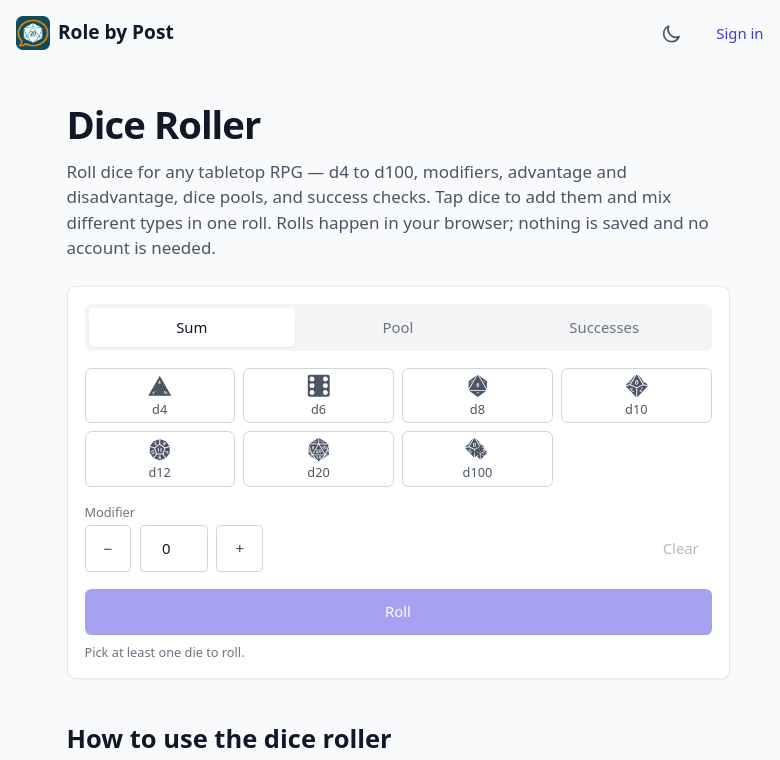
Test case: DiceRollerPage › applies advantage to a single d20 sum roll
This screenshot has width=780, height=760.
Click the button "d20". click: (319, 459)
box: [243,431,394,486]
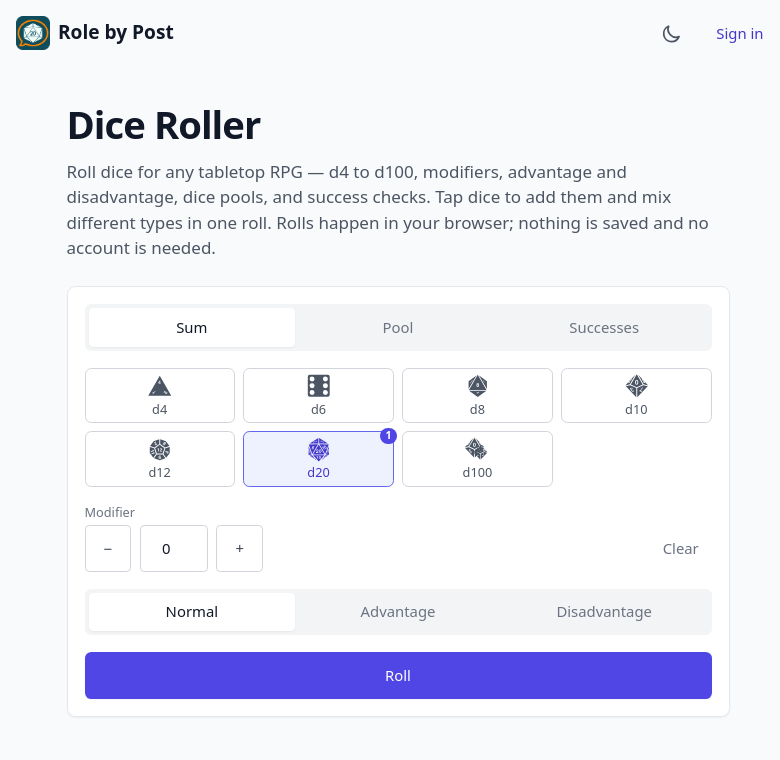
Click the button "Advantage". click: (398, 612)
box: [295,593,501,631]
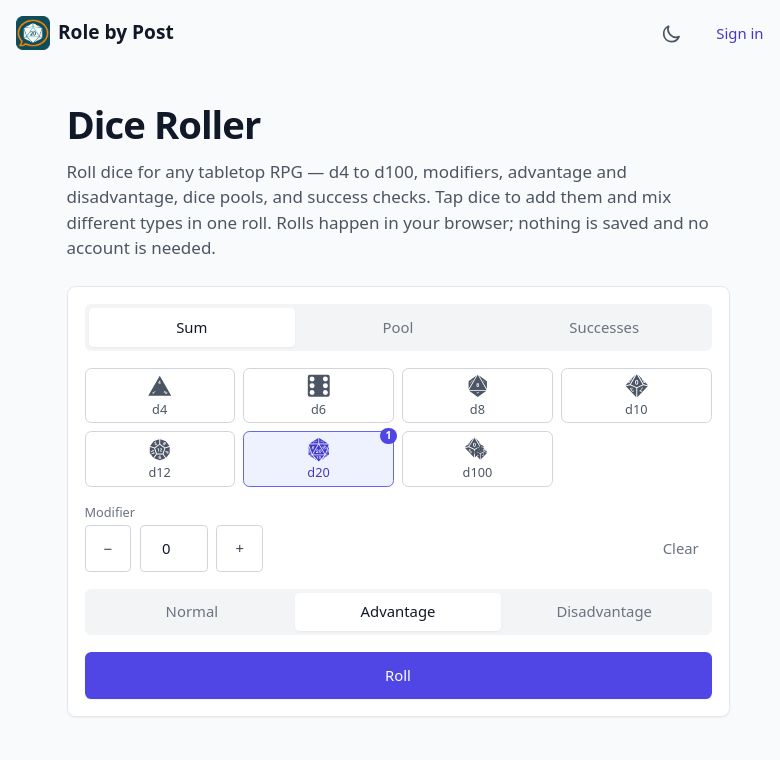
Click the button "Roll". click: (398, 676)
box: [84,652,712,699]
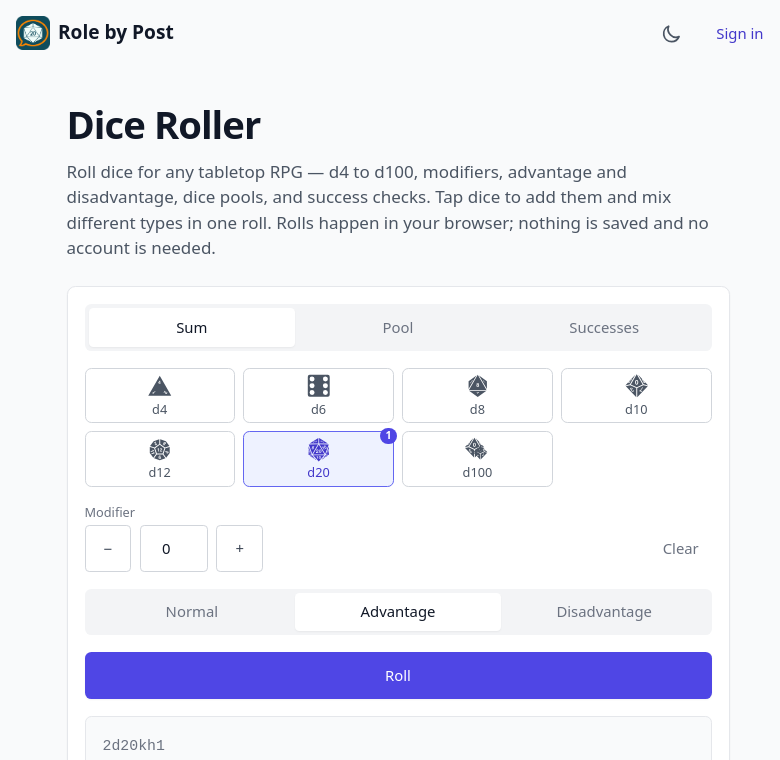
Now the text "2d20kh1" is shown, box [102,738,165,754]
